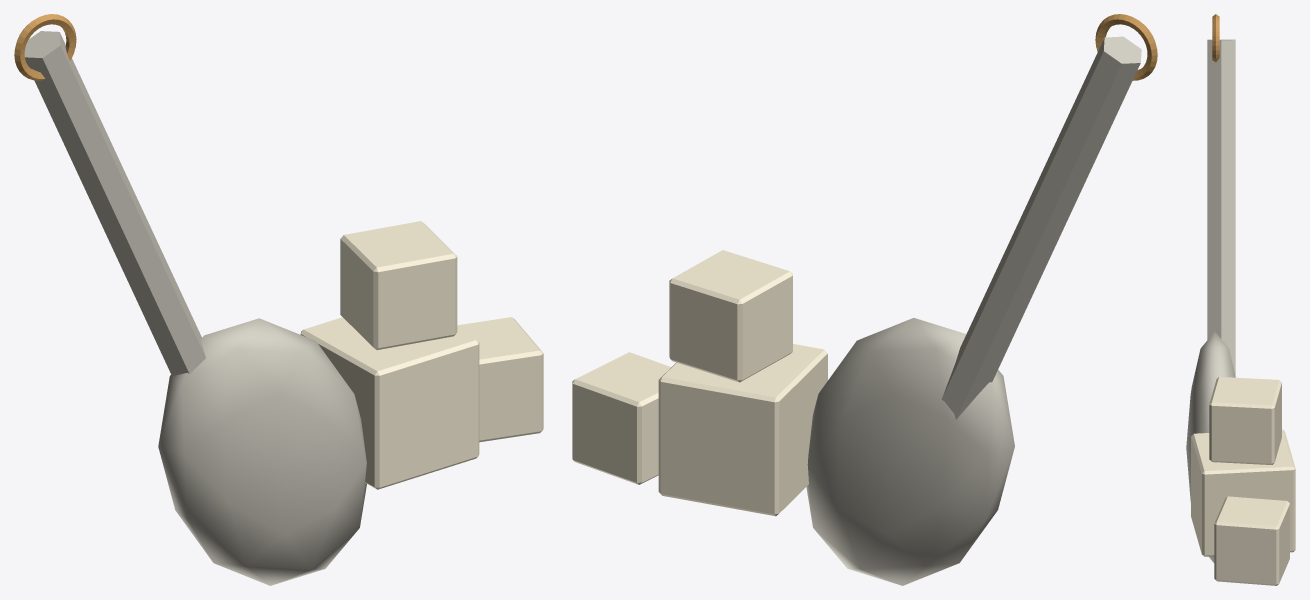
Rendered from spoon_and_sugar_v2.glb.
3 renders of one model, left to right at view 1: azimuth 30°, elevation 25°; view 2: azimuth 150°, elevation 25°; view 3: azimuth 270°, elevation 25°, orthographic. The views are drawn at different scales.
Parts seen in each view (by area): view 1: spoon_and_sugar_v2__orbit-spoon-silver, spoon_and_sugar_v2__orbit-sugar, spoon_and_sugar_v2__orbit-copper; view 2: spoon_and_sugar_v2__orbit-spoon-silver, spoon_and_sugar_v2__orbit-sugar, spoon_and_sugar_v2__orbit-copper; view 3: spoon_and_sugar_v2__orbit-sugar, spoon_and_sugar_v2__orbit-spoon-silver, spoon_and_sugar_v2__orbit-copper.
Boxes of the visible parts, x1=… form: spoon_and_sugar_v2__orbit-spoon-silver: x1=24, y1=31, x2=366, y2=585; spoon_and_sugar_v2__orbit-sugar: x1=300, y1=221, x2=543, y2=489; spoon_and_sugar_v2__orbit-copper: x1=14, y1=14, x2=76, y2=80; spoon_and_sugar_v2__orbit-spoon-silver: x1=806, y1=36, x2=1141, y2=585; spoon_and_sugar_v2__orbit-sugar: x1=572, y1=250, x2=827, y2=516; spoon_and_sugar_v2__orbit-copper: x1=1095, y1=14, x2=1157, y2=80; spoon_and_sugar_v2__orbit-sugar: x1=1191, y1=377, x2=1295, y2=585; spoon_and_sugar_v2__orbit-spoon-silver: x1=1186, y1=39, x2=1235, y2=563; spoon_and_sugar_v2__orbit-copper: x1=1212, y1=14, x2=1219, y2=62.
Bounding box in the file's own units: 39.4 × 43.38 × 9.52.
